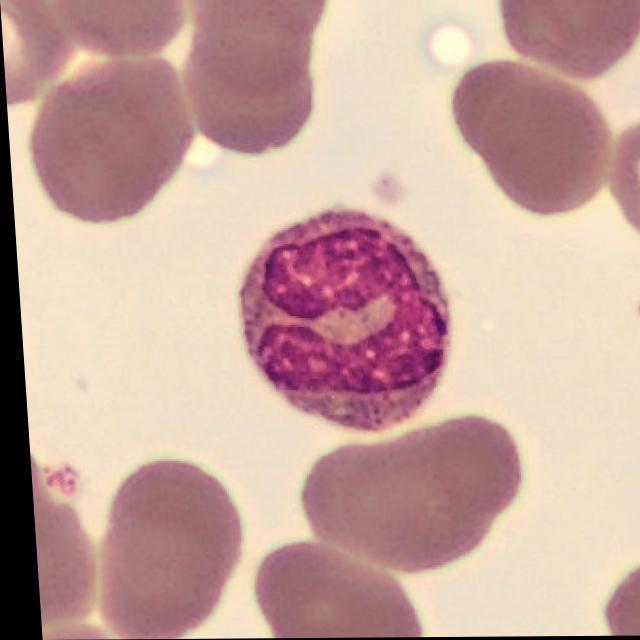Bastonete: (233, 210, 448, 433)
